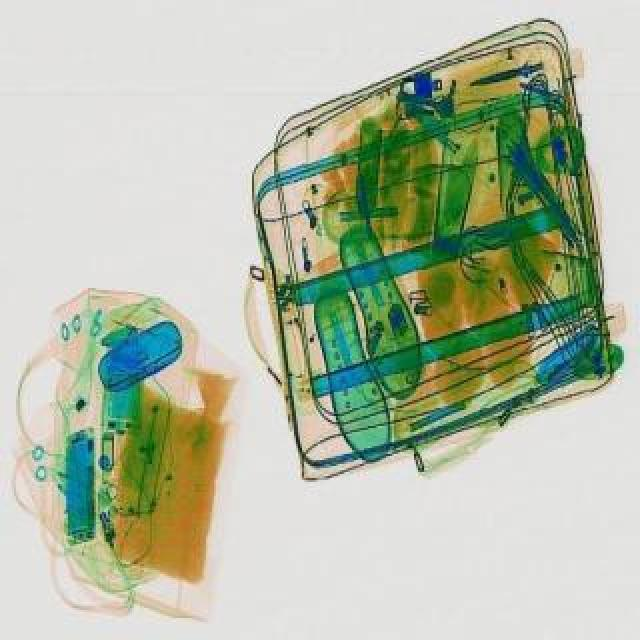knife: (466, 54, 546, 92)
